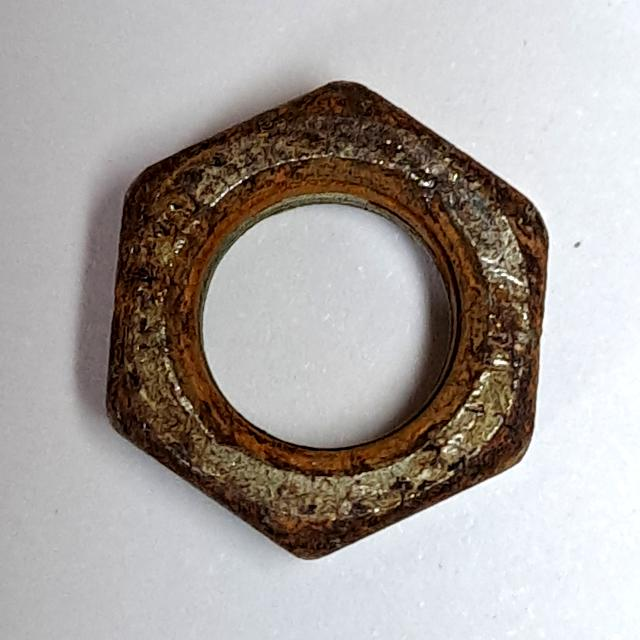Rust: (94, 66, 564, 576)
